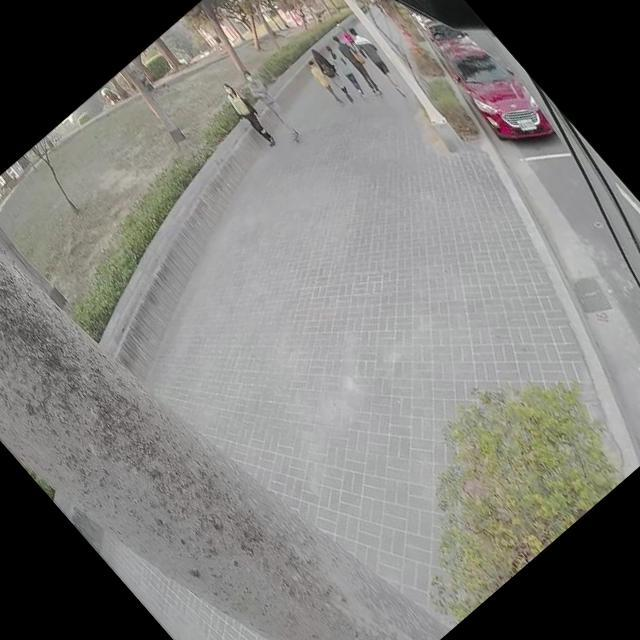person: (344, 24, 414, 102), (238, 67, 304, 139), (217, 78, 280, 147), (328, 30, 387, 94), (318, 40, 374, 101), (306, 46, 358, 104), (300, 56, 346, 106), (330, 17, 353, 42)
